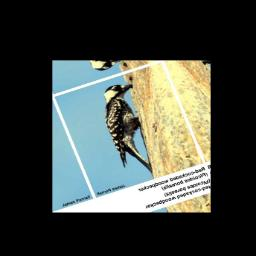Woodpecker: (90, 79, 169, 182)
